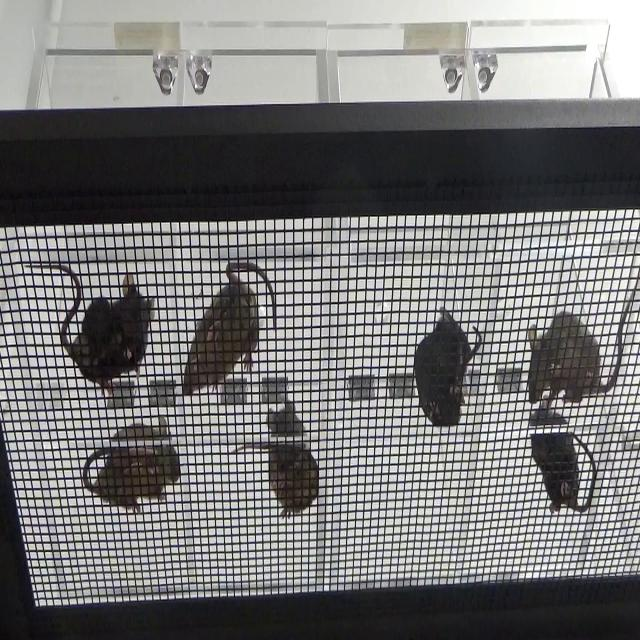lick tail: (406, 304, 486, 438)
scratch: (20, 251, 170, 402)
